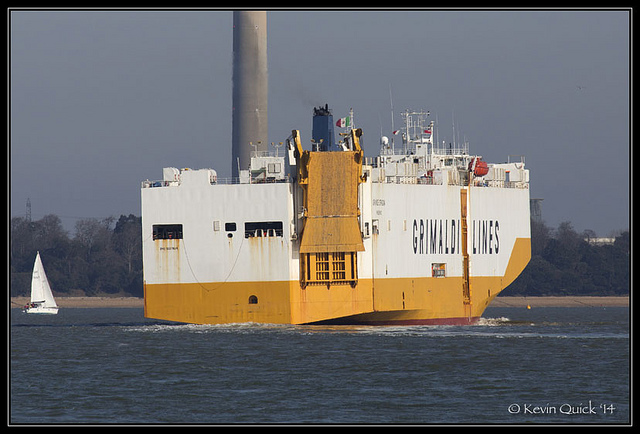PCC: (141, 110, 535, 327)
boat: (25, 252, 61, 316)
